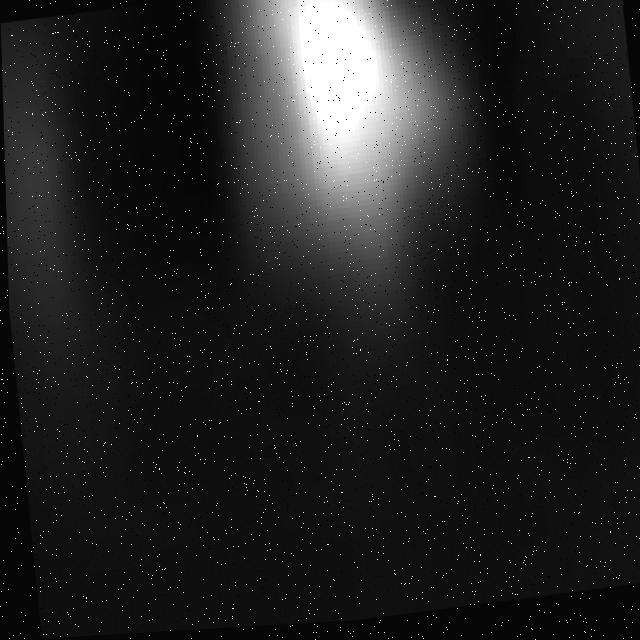person: (196, 1, 543, 379)
